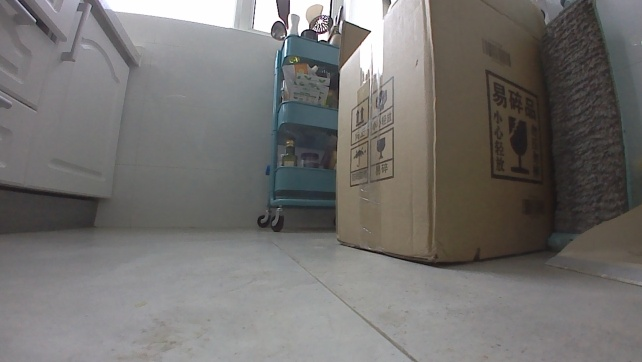cupboard: (0, 0, 141, 238)
